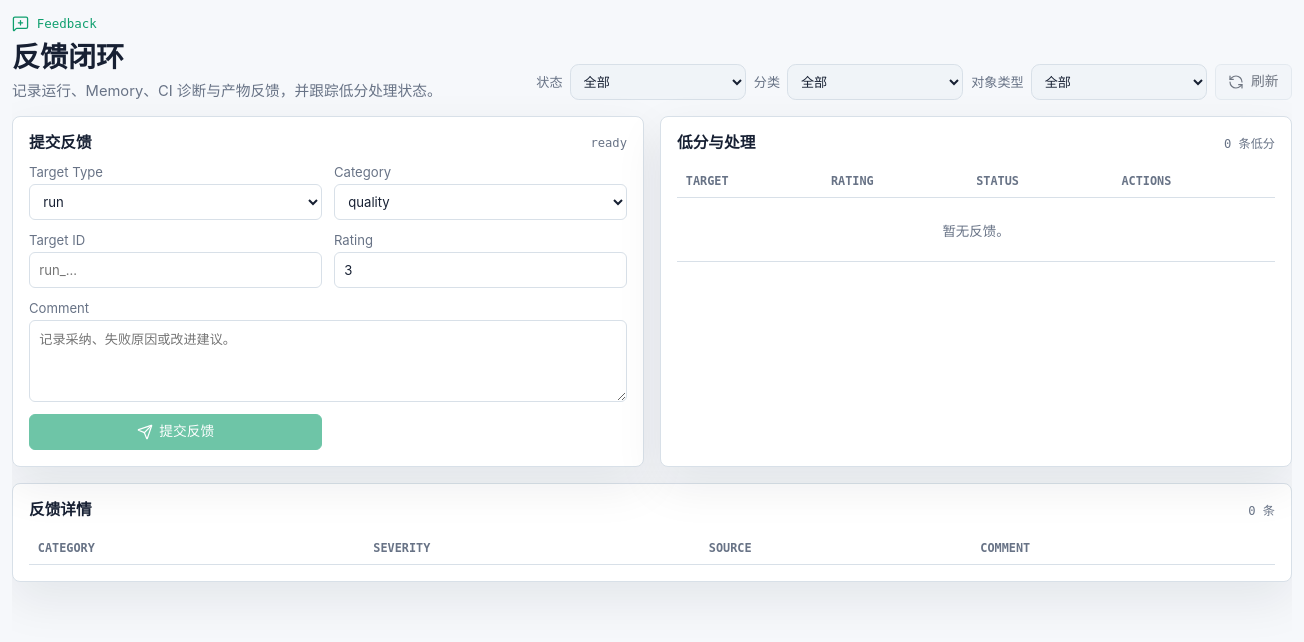
Scenario: FeedbackPage › surfaces create feedback API errors
Type "run_x" into the field with placeholder "run_..." at (176,270), box top-left (29, 252), bottom-right (322, 288)
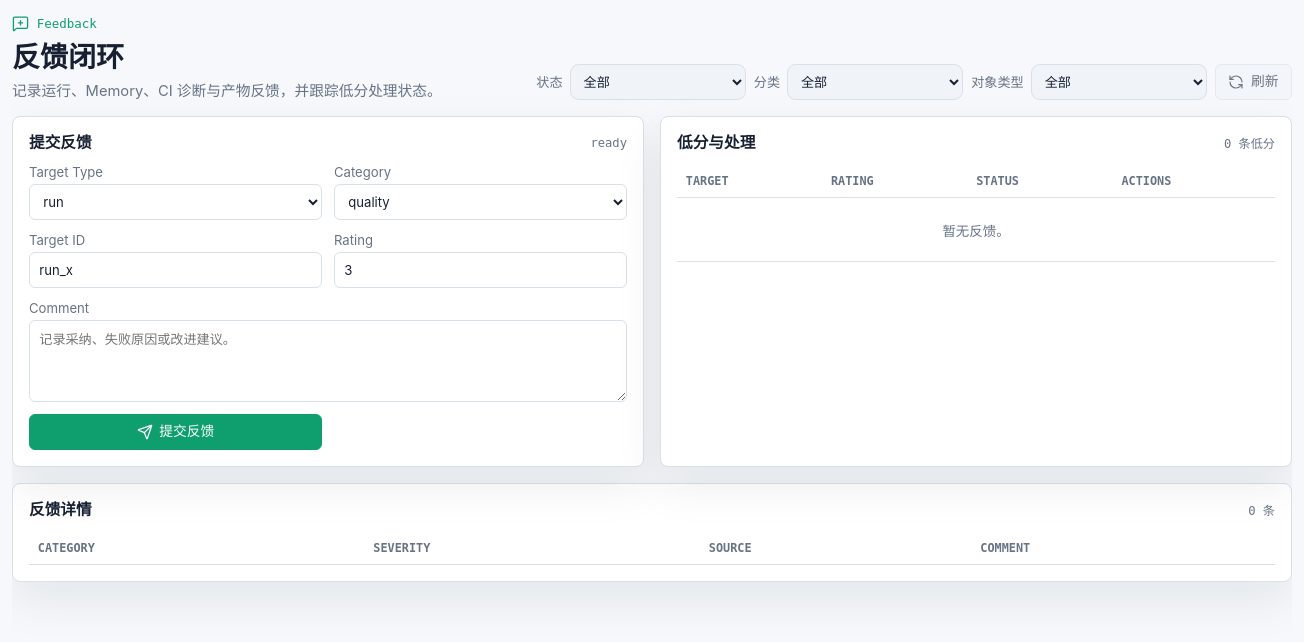
Click the button "提交反馈" at (176,432), box top-left (29, 414), bottom-right (322, 450)
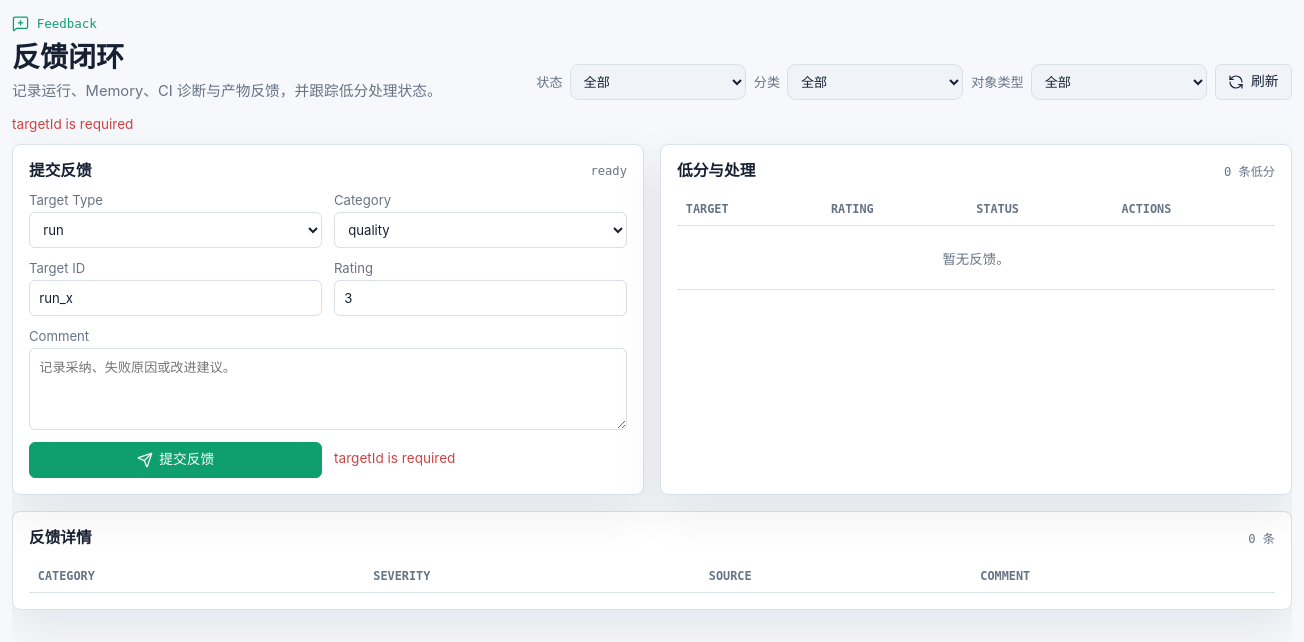
Check: the text with test id "feedback-submit-error" reads "targetId is required", box top-left (334, 450), bottom-right (456, 466)
